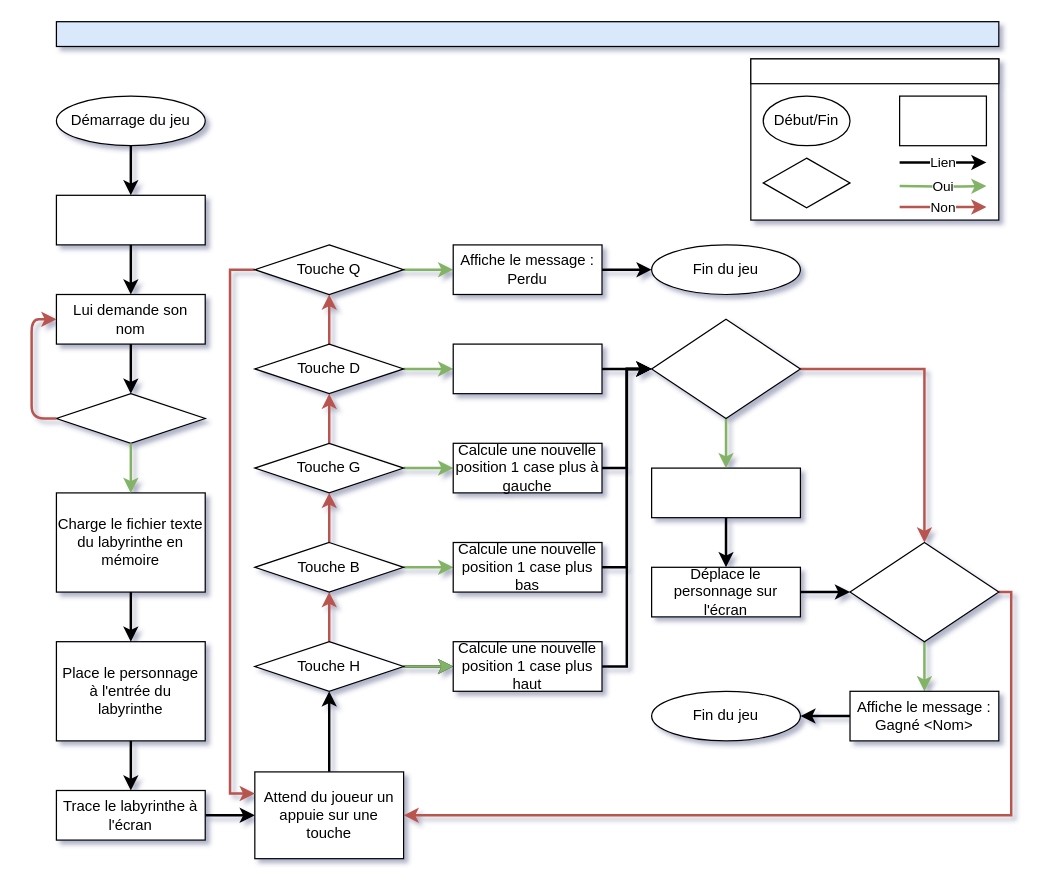
Some shapes in this 1050 by 888 pixel diagram are drawn without their labels. The shapes that lost their labels are listed below. From the top down, each one's centre as x and y in pixels, then its label:
the point at 527,33: Labyrinthe v1
the point at 874,71: Légende
the point at 942,120: Action / Processus
the point at 806,182: Choix
the point at 130,219: Dit bonjour au joueur
the point at 527,368: Calcule une nouvelle position 1 case plus à droite
the point at 725,368: La nouvelle position est un mur ?
the point at 130,417: Le nom est saisi ?
the point at 725,492: Assigne la nouvelle position au personnage
the point at 924,591: La nouvelle position est la sortie ?
